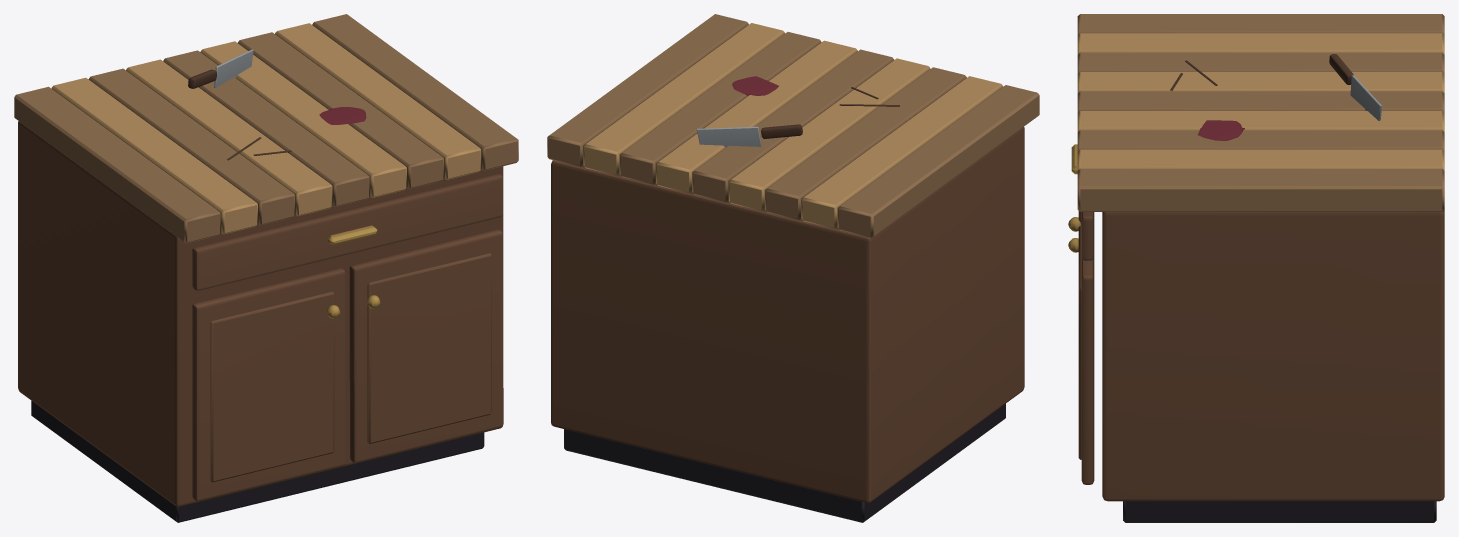
Rendered from counter_butcher.glb.
The picture shows the model from 3 angles, left to right: view 1: azimuth 30°, elevation 25°; view 2: azimuth 150°, elevation 25°; view 3: azimuth 270°, elevation 25°; orthographic projection. The views are drawn at different scales.
Parts seen in each view (by area): view 1: counter_butcher; view 2: counter_butcher; view 3: counter_butcher.
Boxes of the visible parts, box(x1,y1,x2,y2) form: counter_butcher: box(14, 14, 518, 522); counter_butcher: box(547, 14, 1039, 522); counter_butcher: box(1068, 14, 1444, 522).
Size of the model in its own units: 0.998 by 0.9867 by 0.913.
